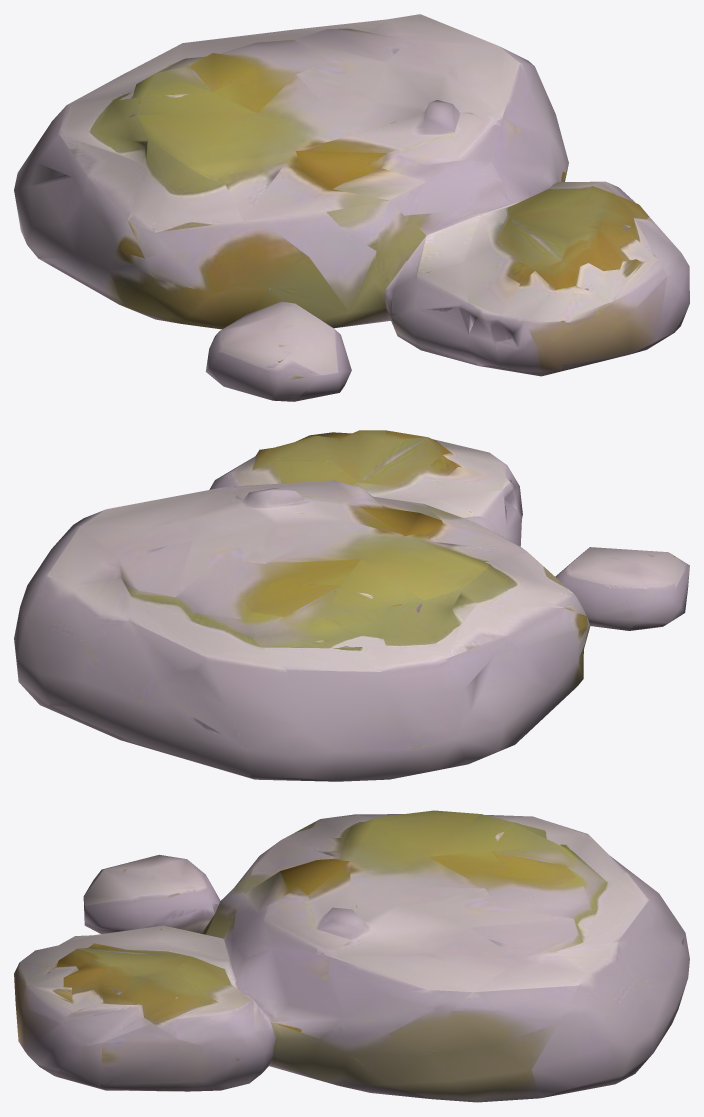
File: rock_b.glb
3 renders of one model, top to bottom at view 1: azimuth 30°, elevation 25°; view 2: azimuth 150°, elevation 25°; view 3: azimuth 270°, elevation 25°, orthographic. The views are drawn at different scales.
Visible parts, largest first — view 1: rock_b; view 2: rock_b; view 3: rock_b.
Boxes of the visible parts, x1,y1,x2,y2 form: rock_b: (14,14,689,401); rock_b: (14,430,689,781); rock_b: (14,810,689,1102).
Size of the model in its own units: 2.63 by 0.7014 by 3.44.
Materials: 1 (1 with a texture image).
